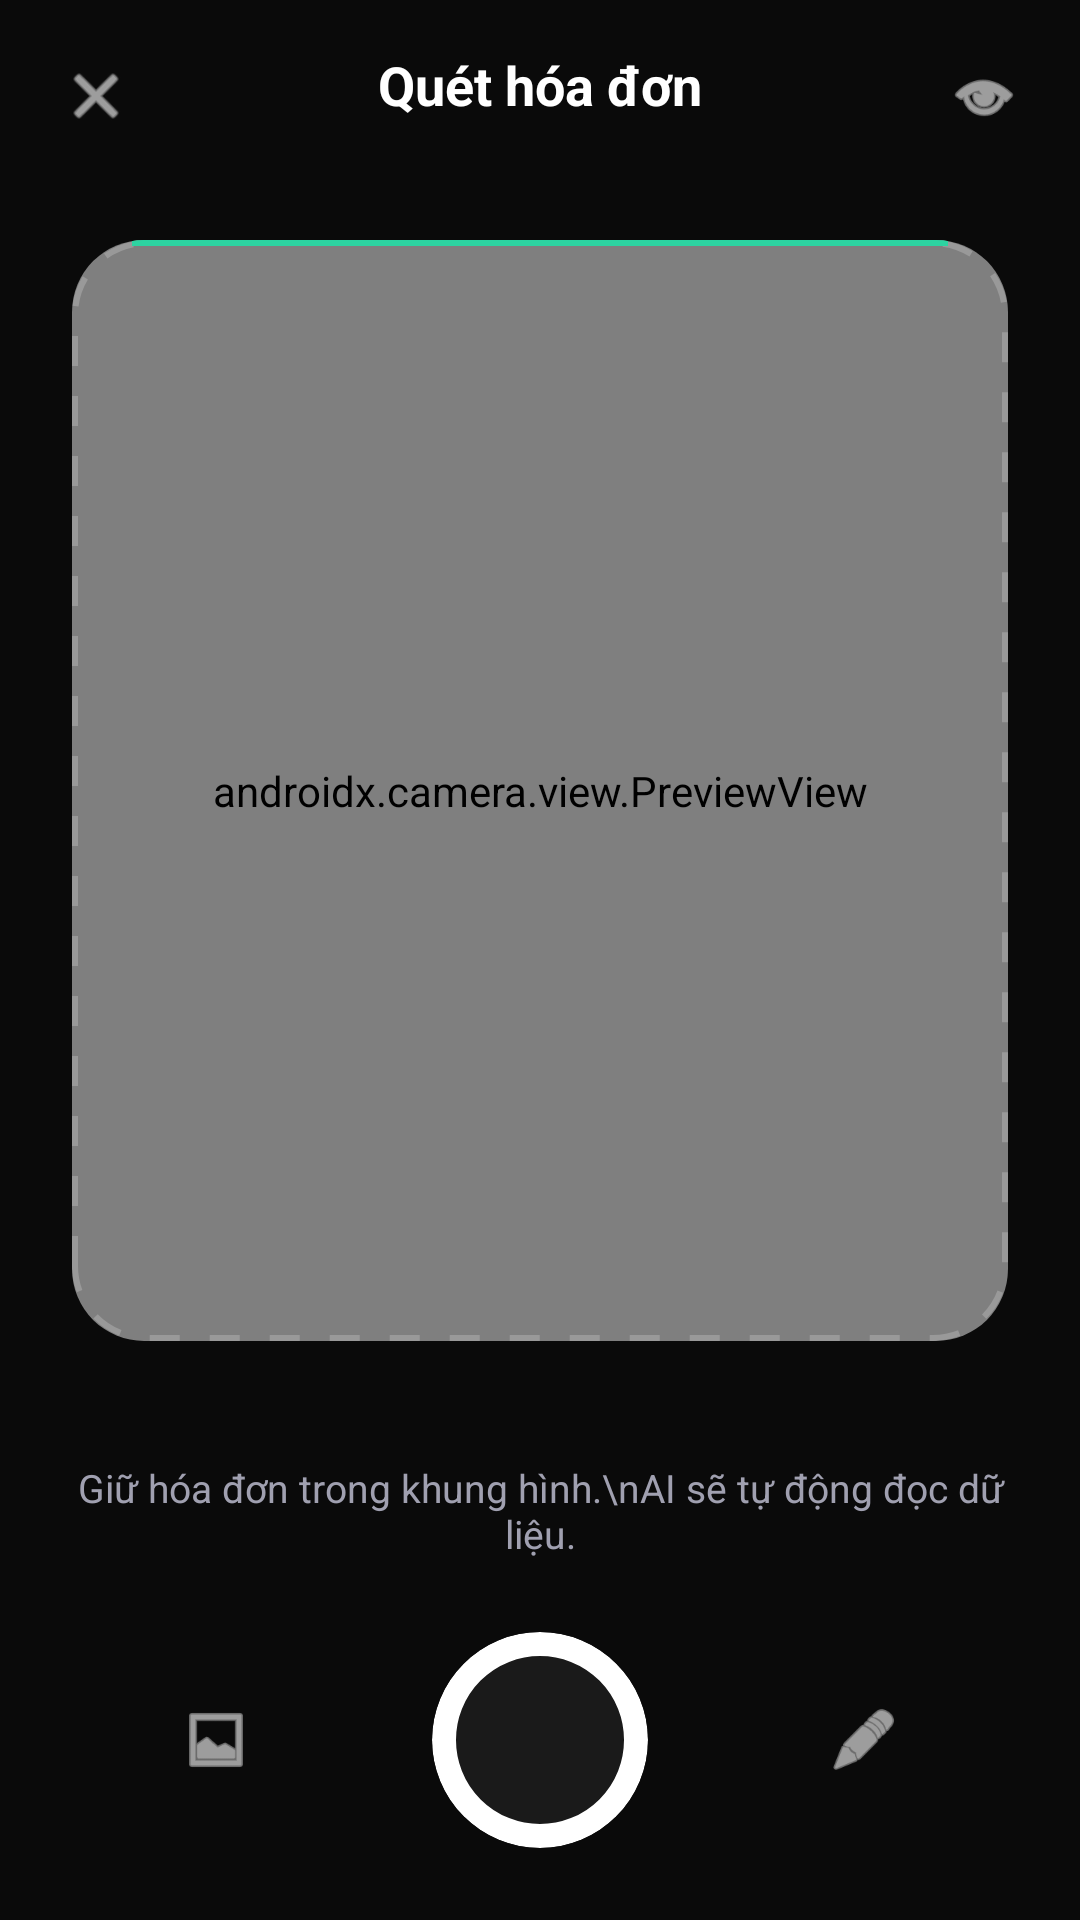

Screen size 1080x1920. Icon name, then its center in pixels as (x=x, y=y):
close clear cancel: (x=96, y=96)
edit: (x=863, y=1739)
gallery: (x=216, y=1740)
